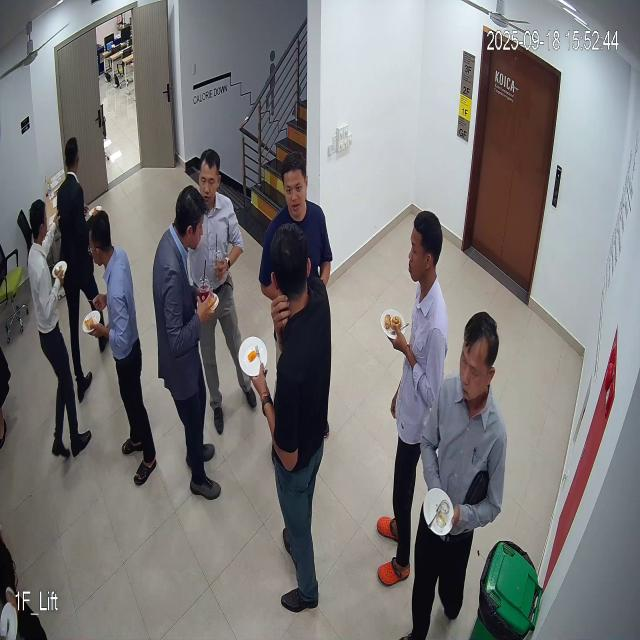face: (406, 211, 448, 286), (273, 152, 314, 218), (196, 144, 221, 202)
